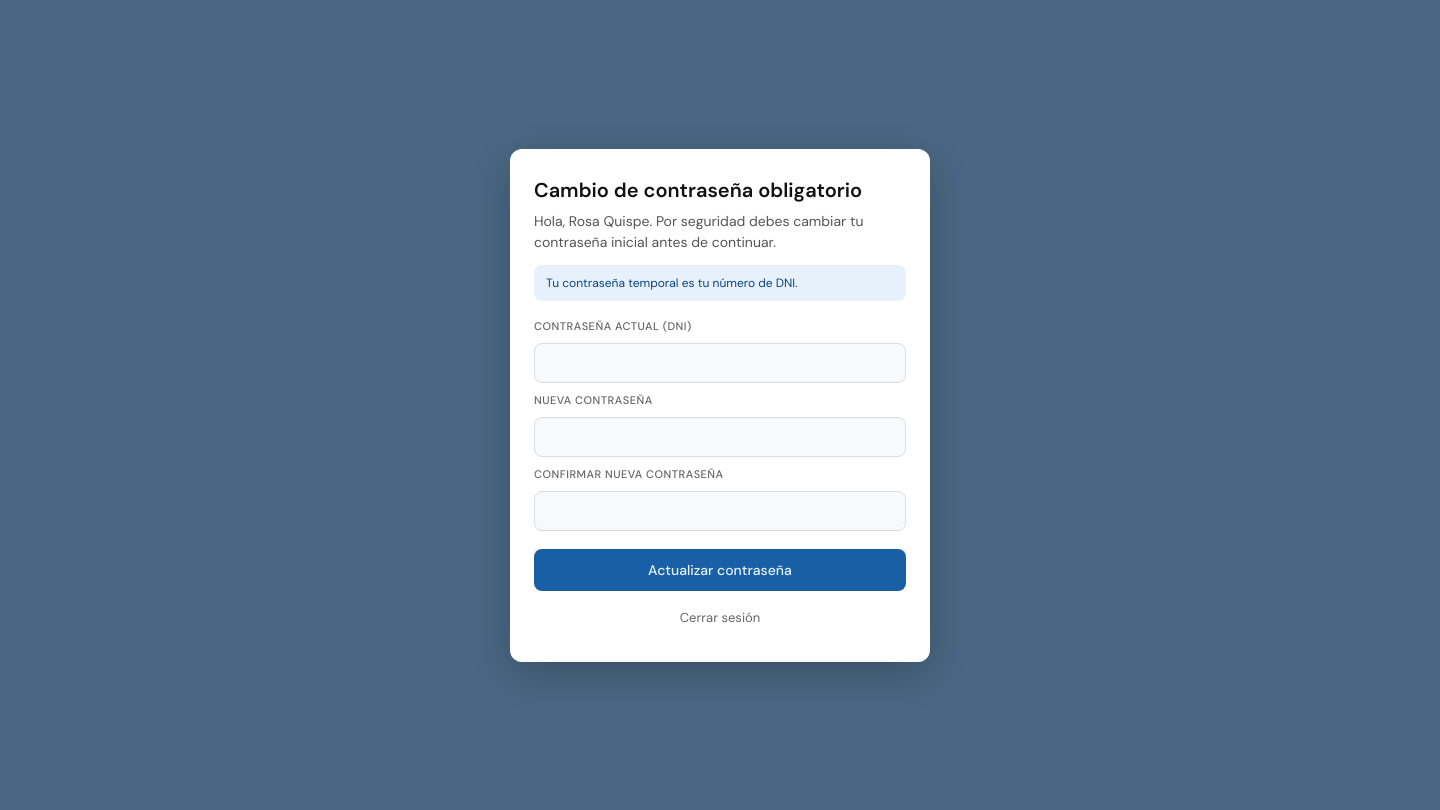
it: CambioPasswordPrimerIngreso (RF01) › rechaza cuando la confirmación no coincide
Type "12345678" into the 1st password field at (720,362), box [534,342,906,382]
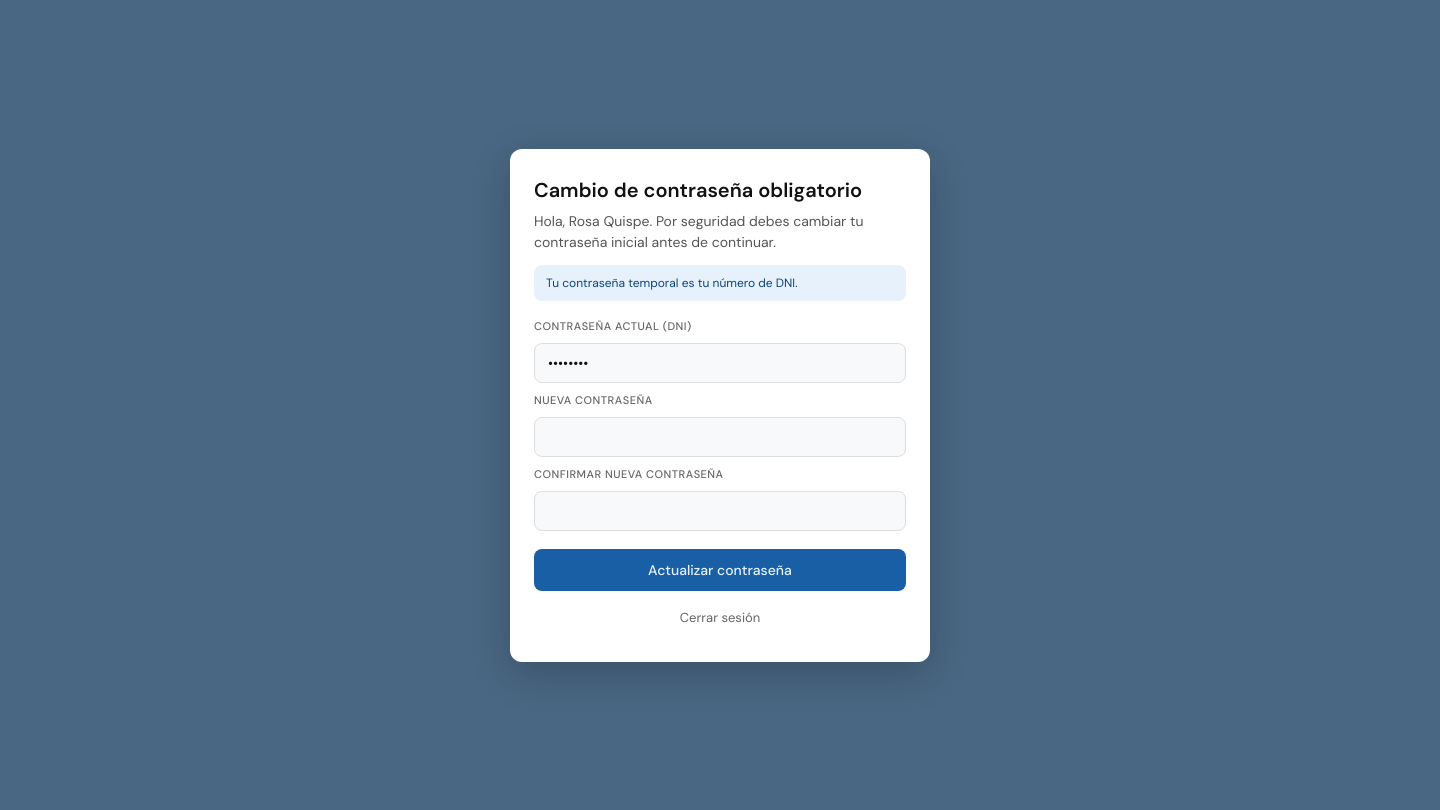
Type "NuevaClave9" into the 2nd password field at (720,436), box [534,416,906,456]
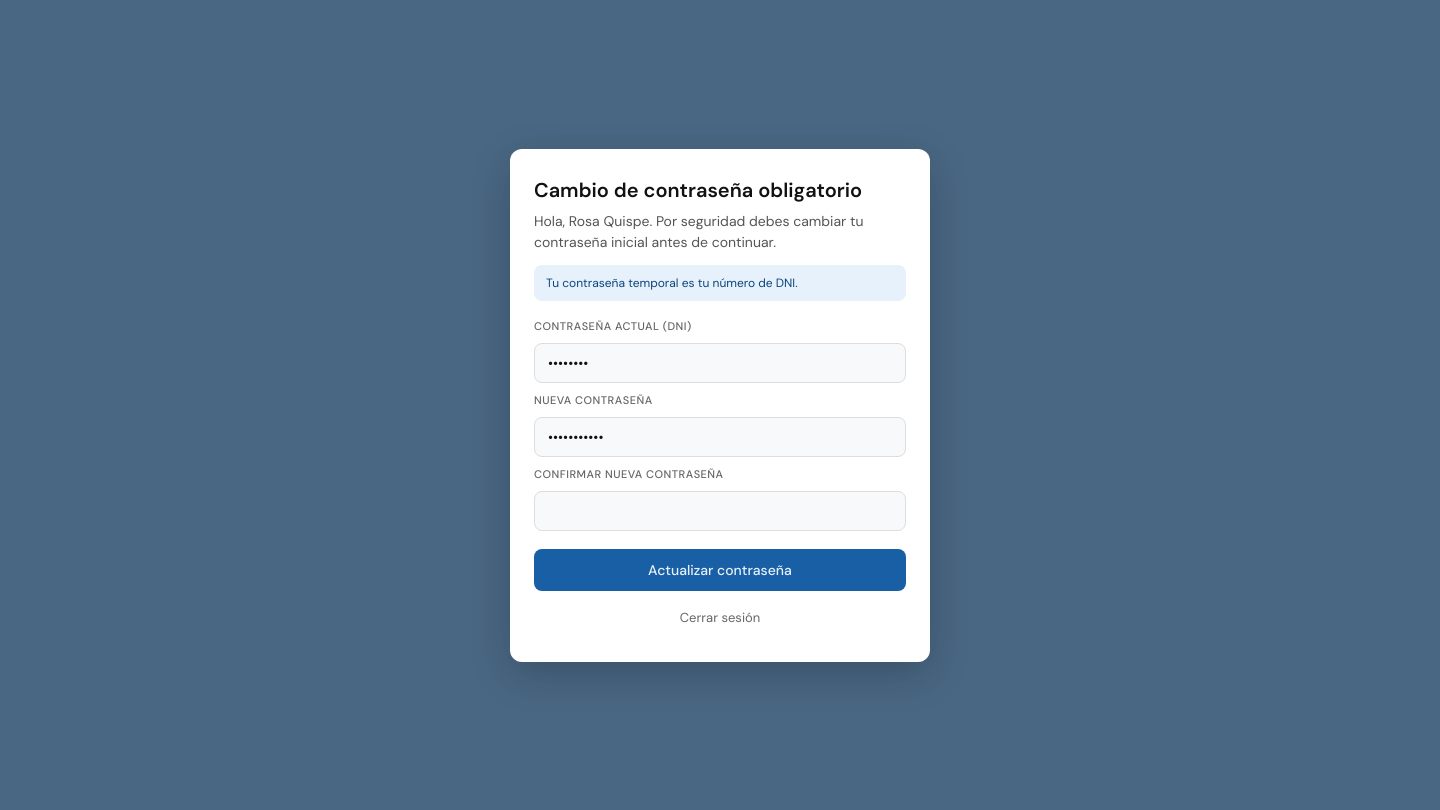
Type "OtraClave9" into the 3rd password field at (720,510), box [534,490,906,530]
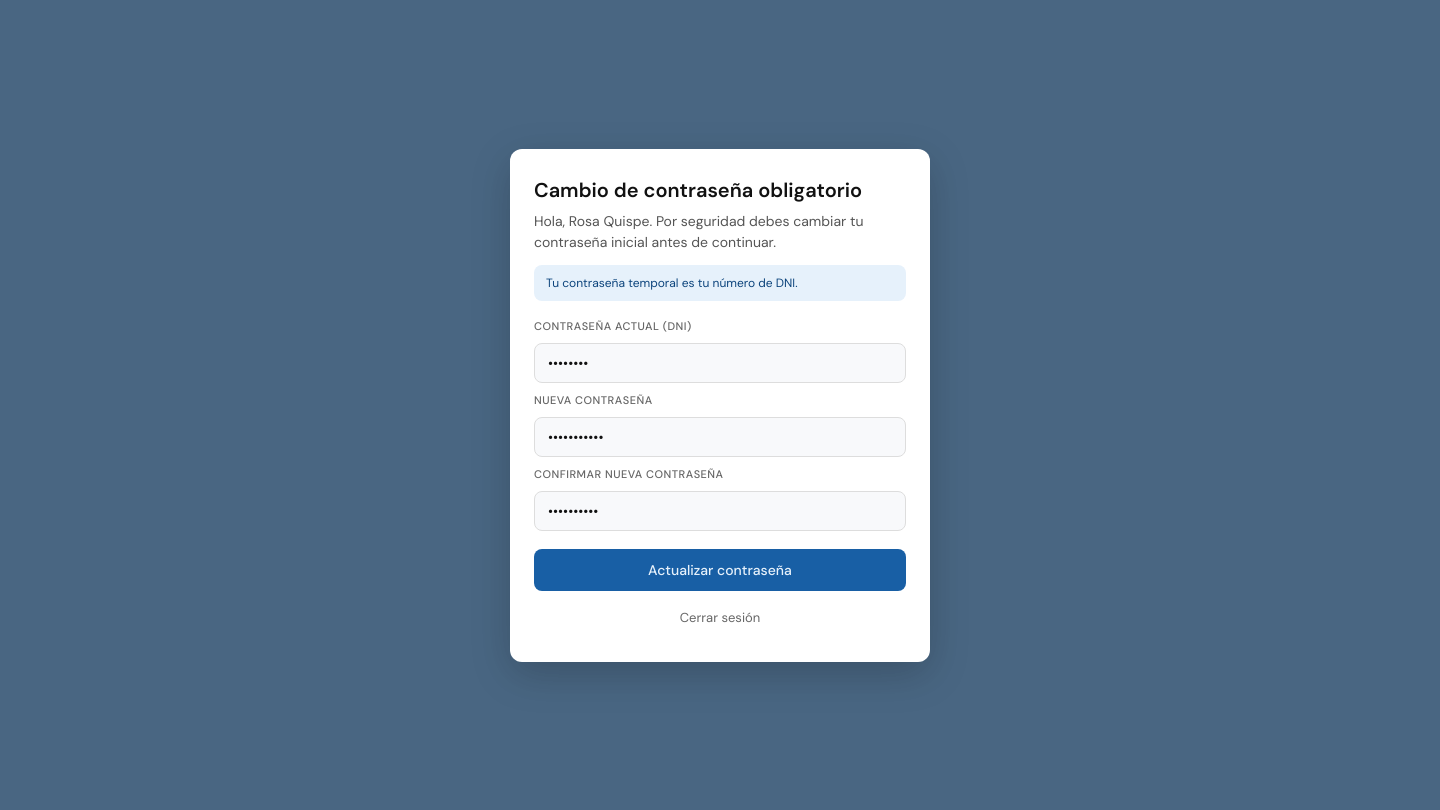
Click the button "Actualizar contraseña" at (720,570), box [534,548,906,590]
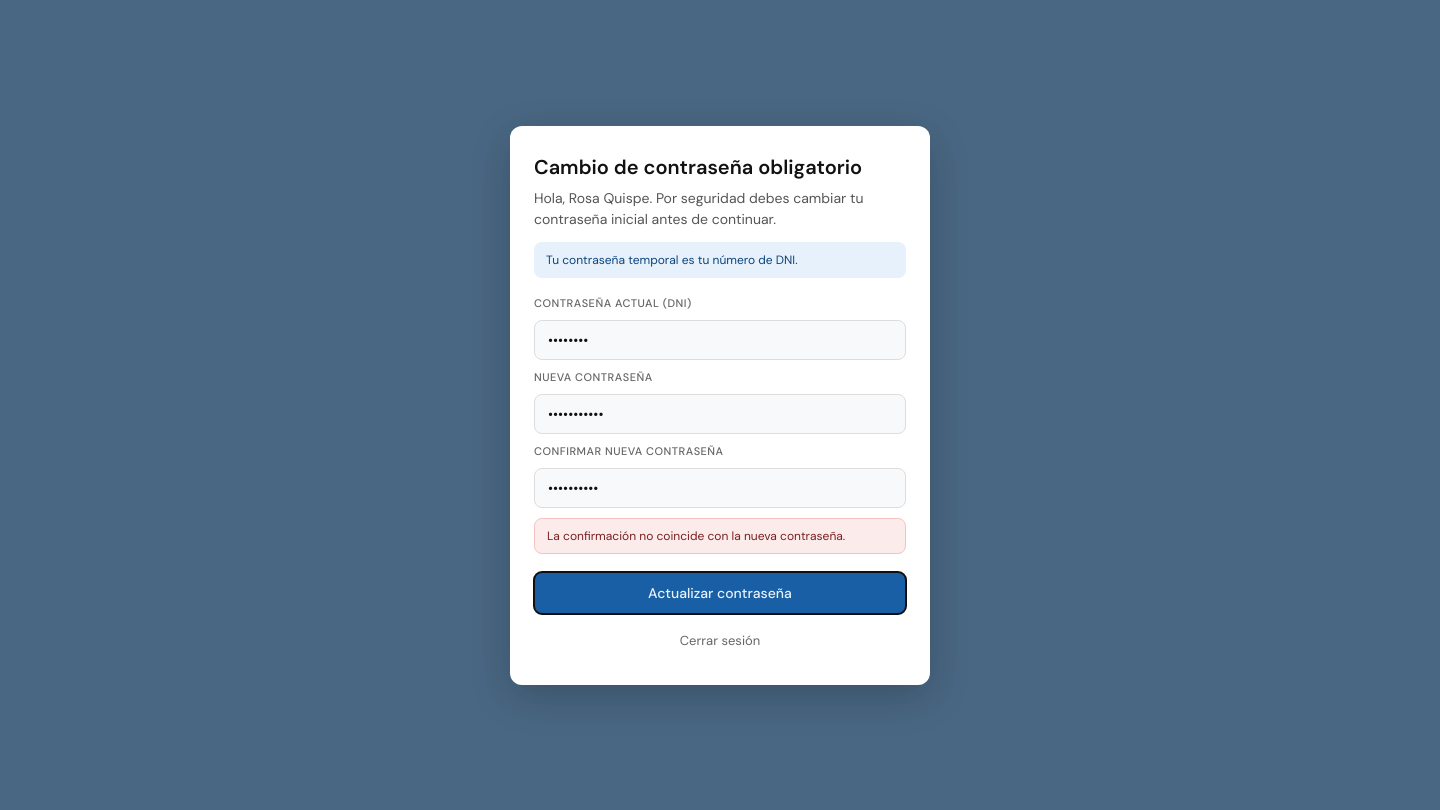
expect the text "La confirmación no coincide con la nueva contraseña." is shown: met, box [547,528,845,544]
